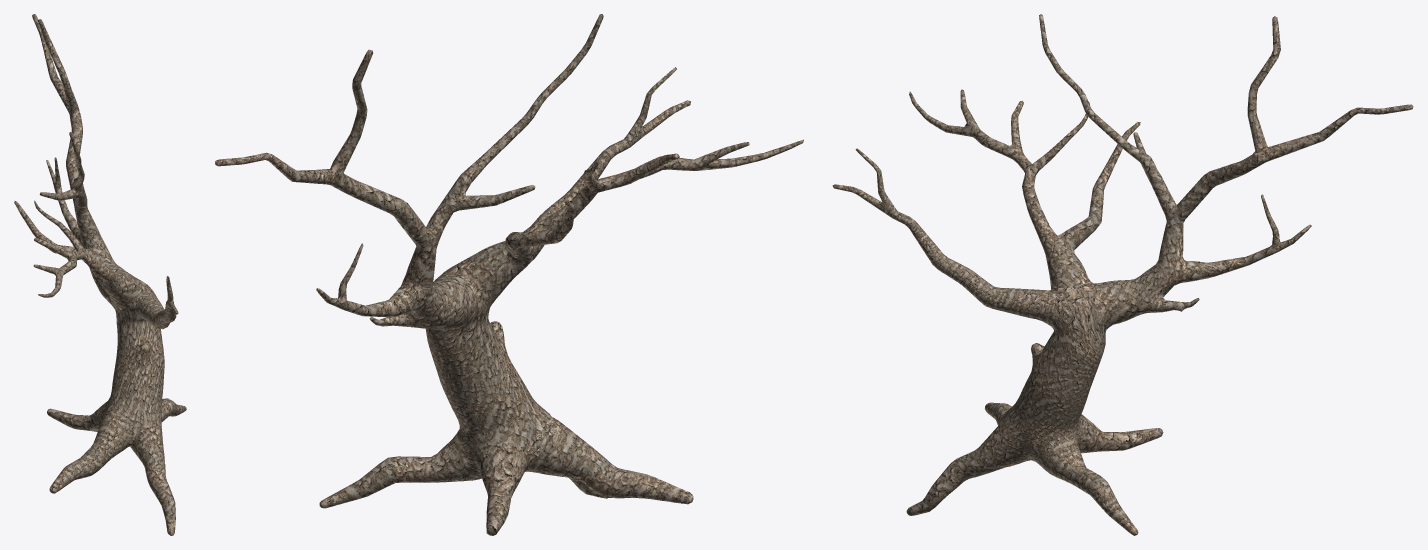
Rendered from TreeThree.fbx.
The picture shows the model from 3 angles, left to right: view 1: azimuth 30°, elevation 25°; view 2: azimuth 150°, elevation 25°; view 3: azimuth 270°, elevation 25°; orthographic projection. The views are drawn at different scales.
Parts seen in each view (by area): view 1: Tree_1; view 2: Tree_1; view 3: Tree_1.
Boxes of the visible parts, x1=… form: Tree_1: x1=14, y1=14, x2=186, y2=535; Tree_1: x1=215, y1=14, x2=803, y2=535; Tree_1: x1=832, y1=14, x2=1413, y2=535.
Bounding box in the file's own units: 466 × 760 × 788.
